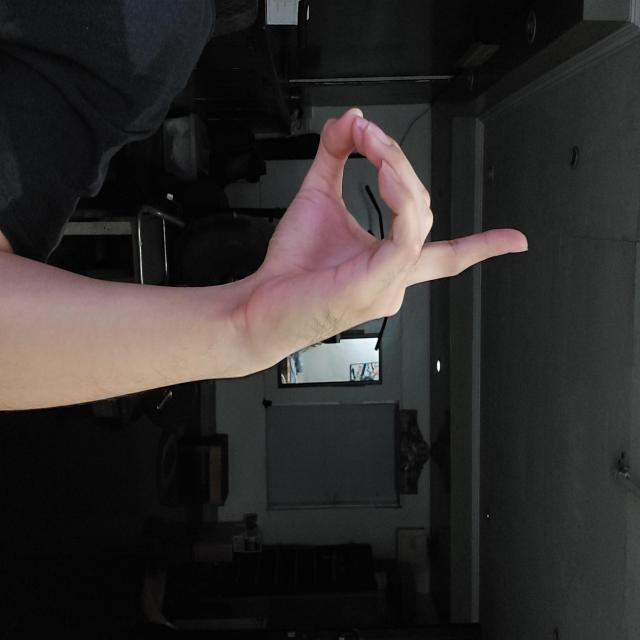D: (107, 111, 366, 392)
